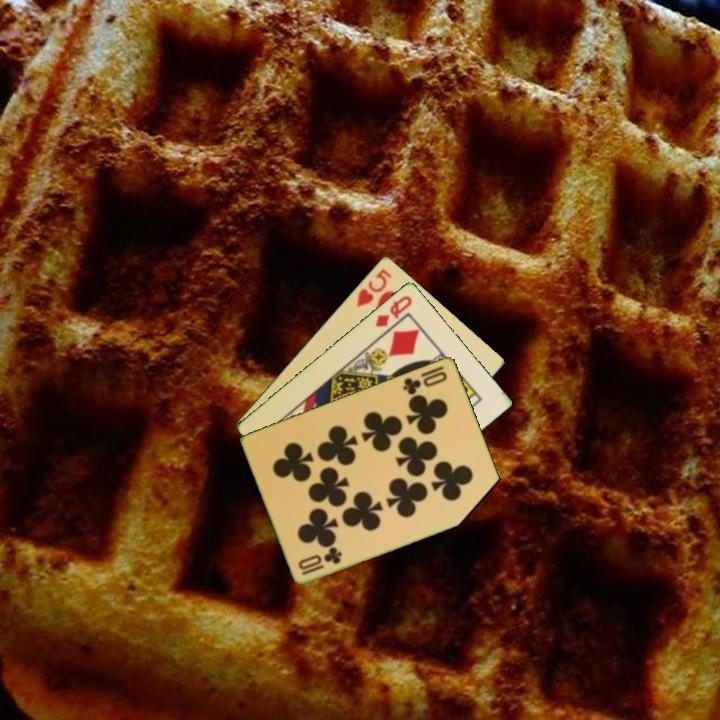10c: (298, 544, 345, 578), (399, 367, 450, 398)
5h: (353, 265, 395, 309)
Qd: (372, 291, 415, 330)
